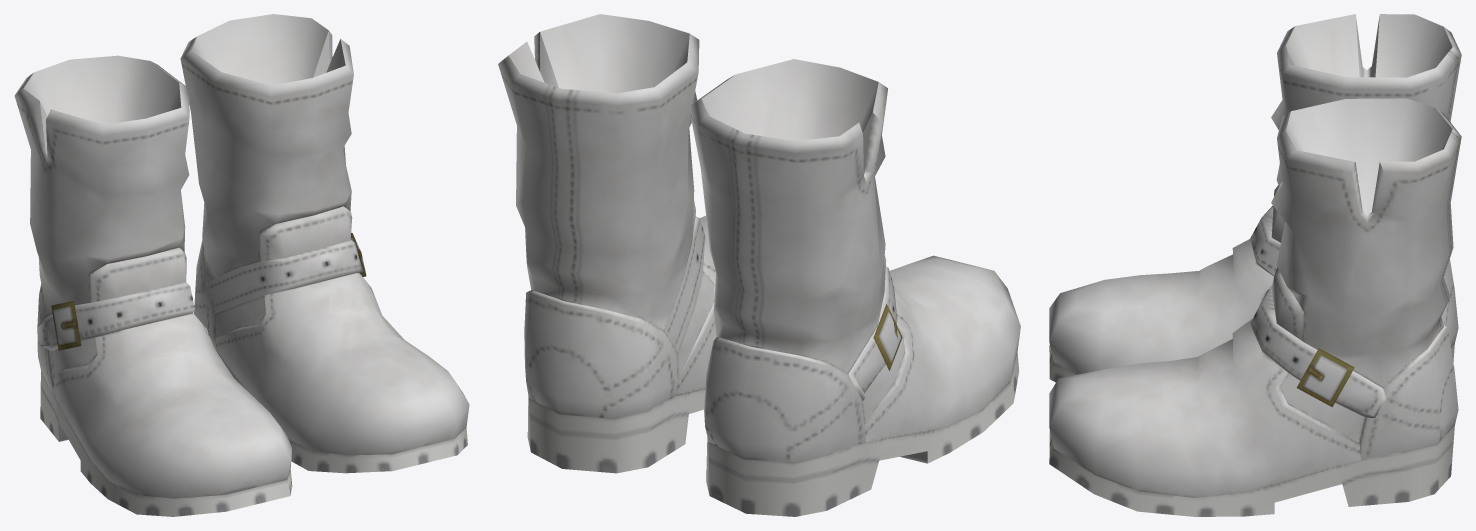
File: p0_ftw0009_00_ftw00.gltf
3 renders of one model, left to right at view 1: azimuth 30°, elevation 25°; view 2: azimuth 150°, elevation 25°; view 3: azimuth 270°, elevation 25°, orthographic. The views are drawn at different scales.
Parts seen in each view (by area): view 1: ftw00_shoes_mesh_shape:shoes; view 2: ftw00_shoes_mesh_shape:shoes; view 3: ftw00_shoes_mesh_shape:shoes.
Part boxes in pixels (<box>): ftw00_shoes_mesh_shape:shoes: <box>14,14,469,516</box>; ftw00_shoes_mesh_shape:shoes: <box>498,14,1020,516</box>; ftw00_shoes_mesh_shape:shoes: <box>1049,14,1461,516</box>.
Size of what is drawn, in the model's own units: 0.2525 by 0.242 by 0.2605.
Materials: 1 (1 with a texture image).
